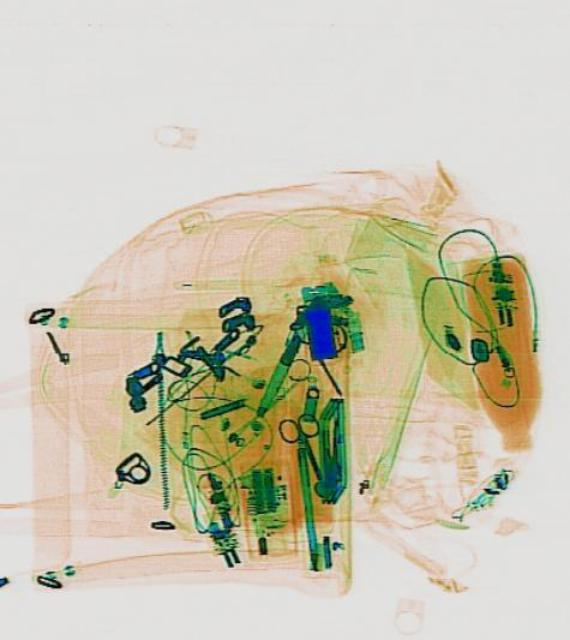Scissors: (272, 407, 334, 485)
